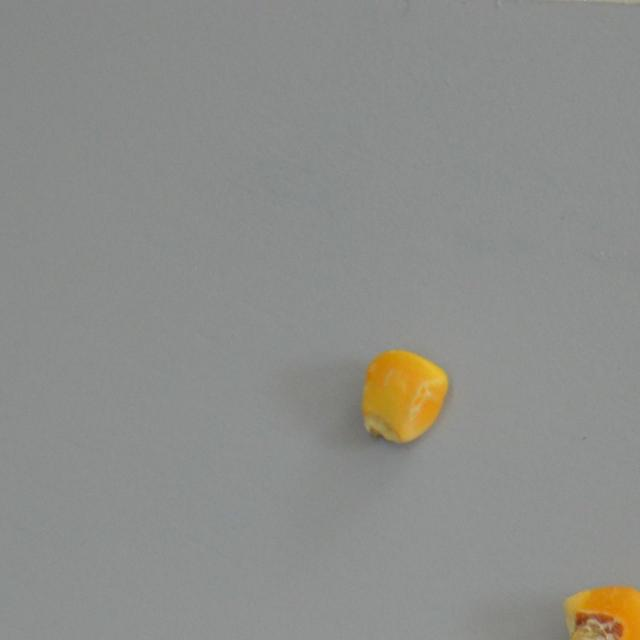dañado: (556, 578, 640, 640)
no_desgerminado: (356, 342, 450, 450)
